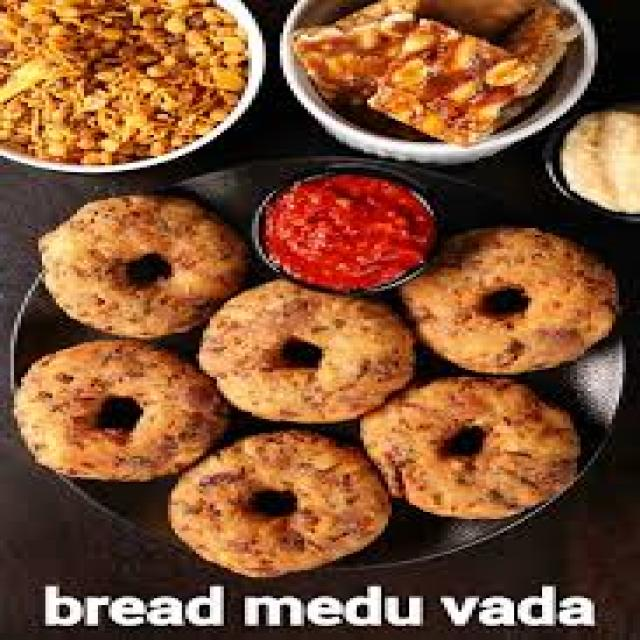MEDU VADA: (32, 183, 252, 341), (371, 368, 590, 518), (411, 226, 632, 373), (170, 425, 390, 572), (8, 342, 228, 485), (191, 288, 418, 424)
